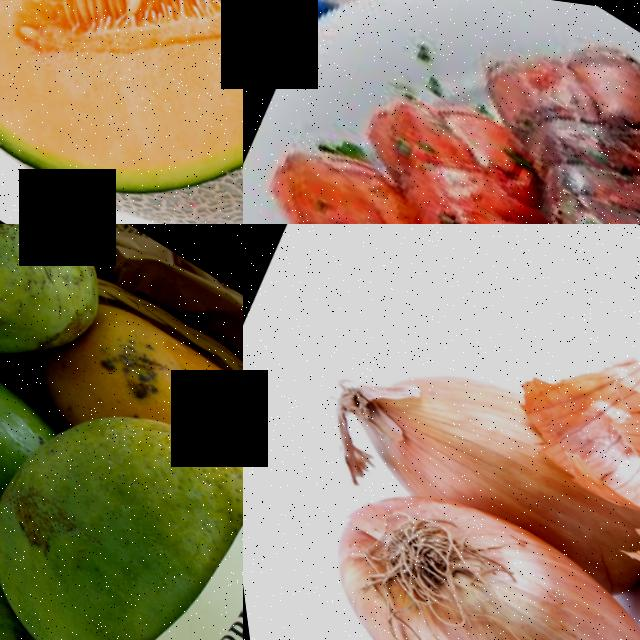lobster tails: (304, 47, 608, 224), (243, 113, 496, 224)
mango: (0, 356, 222, 640), (0, 224, 155, 425), (0, 512, 183, 640)
melon: (0, 0, 243, 224)
onion: (322, 317, 640, 589), (267, 442, 640, 640)
